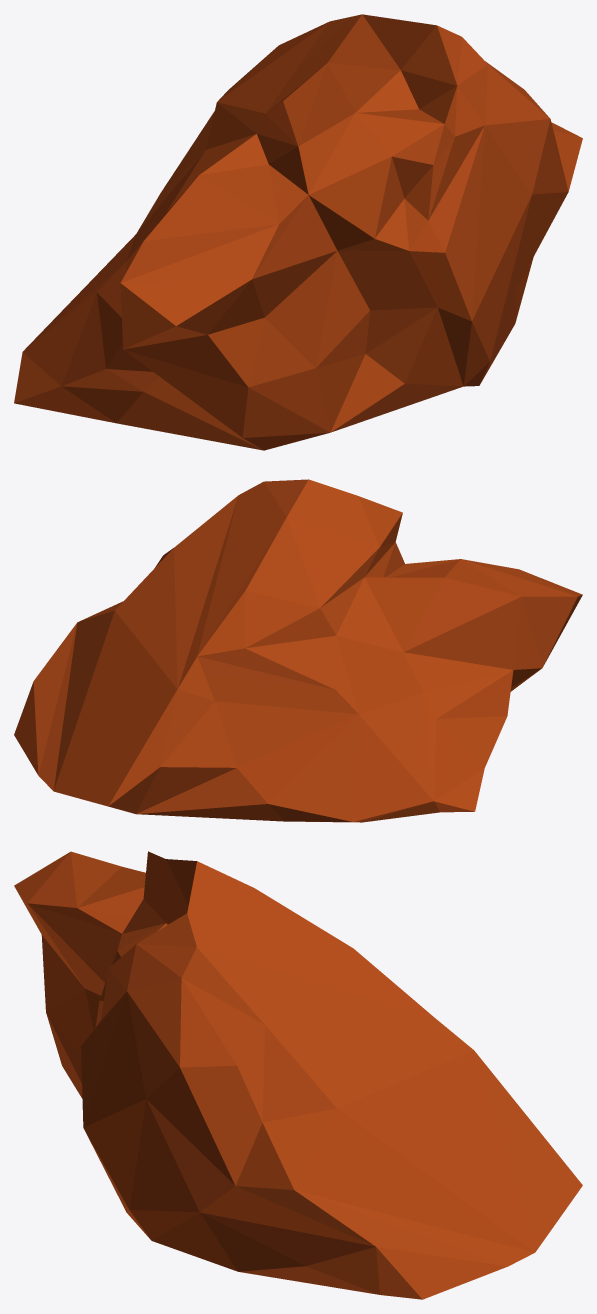
File: stone_mid_14.fbx
3 renders of one model, top to bottom at view 1: azimuth 30°, elevation 25°; view 2: azimuth 150°, elevation 25°; view 3: azimuth 270°, elevation 25°, orthographic. The views are drawn at different scales.
Parts seen in each view (by area): view 1: Stone_desert_mid_014; view 2: Stone_desert_mid_014; view 3: Stone_desert_mid_014.
Boxes of the visible parts, box(x1,y1,x2,y2) form: Stone_desert_mid_014: box(14, 14, 582, 450); Stone_desert_mid_014: box(14, 479, 582, 822); Stone_desert_mid_014: box(14, 851, 582, 1299).
Size of the model in its own units: 307 by 185 by 277.
1 material, 1 textured.
